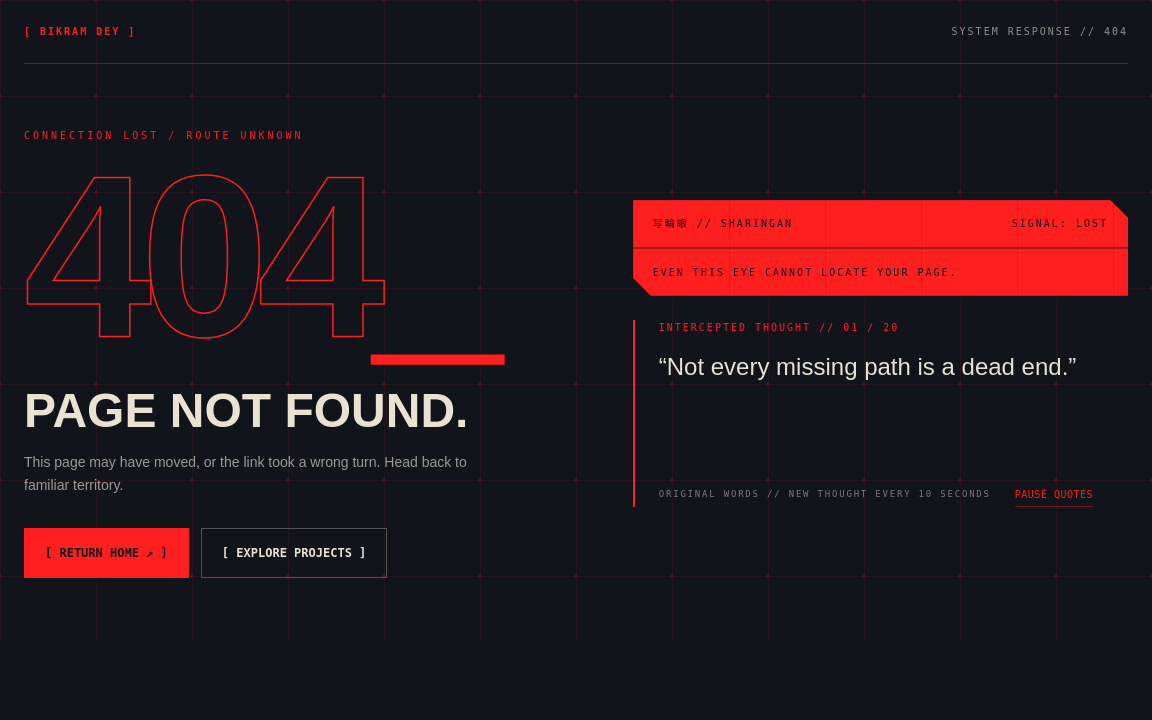
Test case: 404 quote rotation › lets readers pause and resume the changing quotes
This screenshot has width=1152, height=720.
What coordinates should you click on to do the following:
click the button "Pause quotes"
I would click on:
 (1054, 495)
Its box is [1015,483,1093,507].
Wait 30000 ms
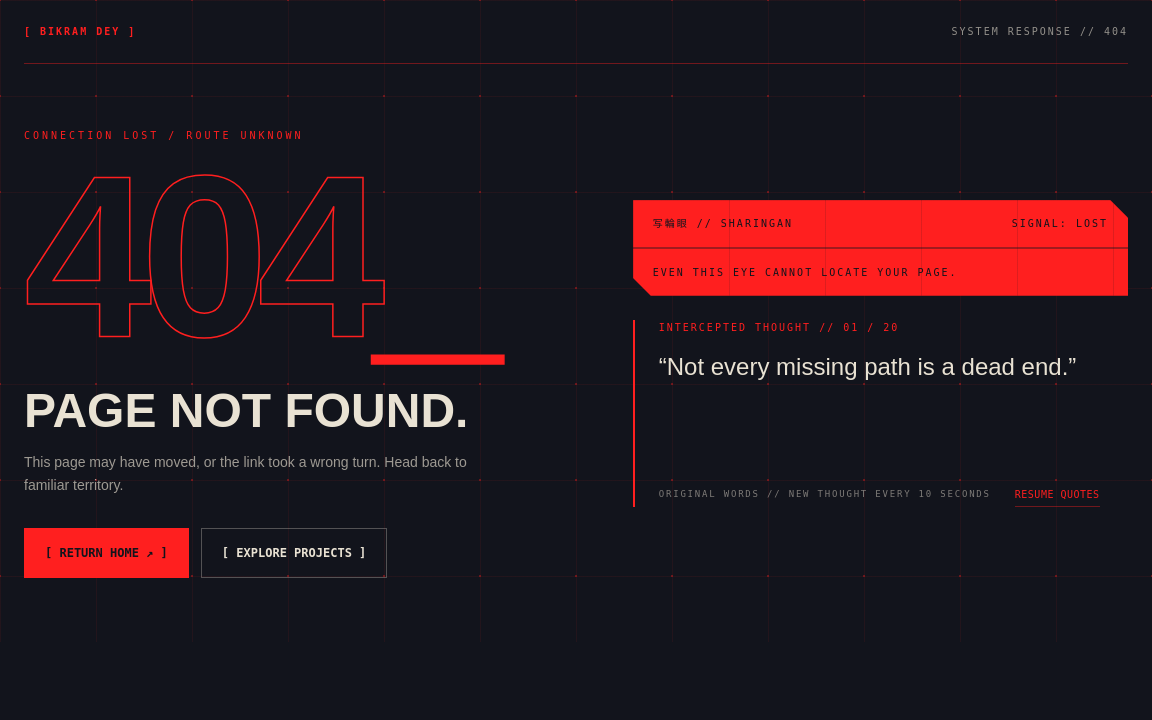
Expected: the element showing "“Not every missing path is a dead end.”" is shown, [659,353,1076,380]
What coordinates should you click on to do the following:
click the button "Resume quotes"
I would click on:
 (1057, 495)
Its box is [1015,483,1100,507].
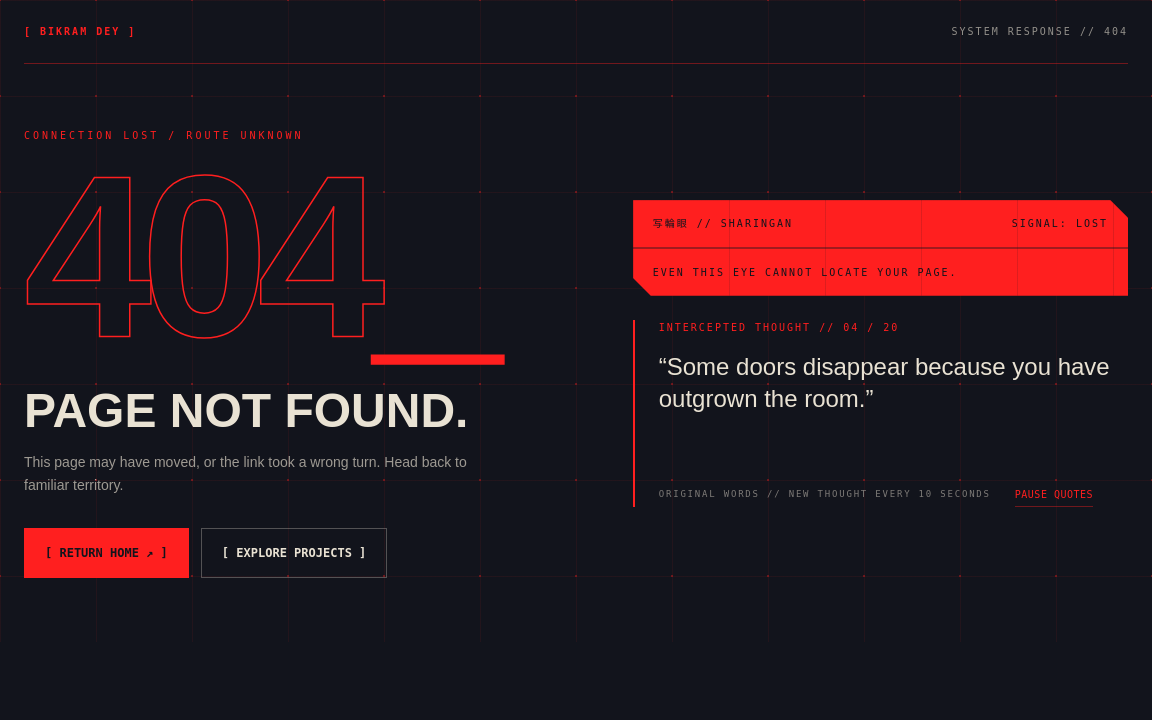
Expected: the element showing "“Some doors disappear because you have outgrown the room.”" is shown, [659,353,1110,412]
